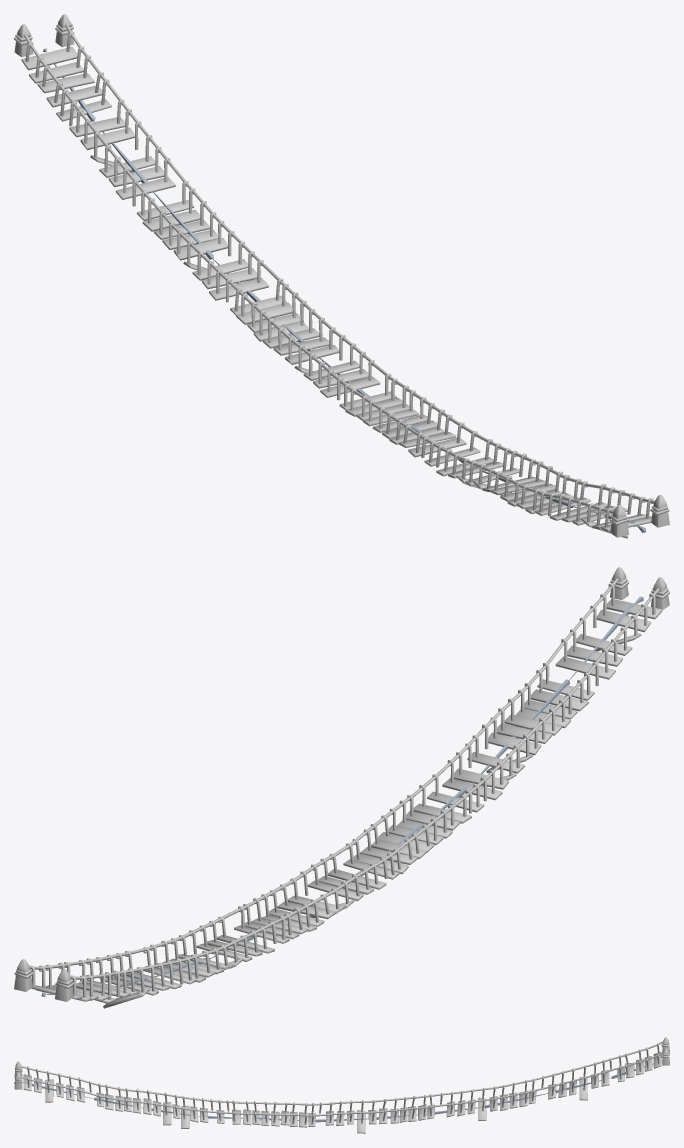
File: bridge.obj
The picture shows the model from 3 angles, top to bottom: view 1: azimuth 30°, elevation 25°; view 2: azimuth 150°, elevation 25°; view 3: azimuth 270°, elevation 25°; orthographic projection. The views are drawn at different scales.
Visible parts, largest first — view 1: bridge, Object001; view 2: bridge, Object001; view 3: bridge, Object001.
Part boxes in pixels (x1=…): bridge: x1=21, y1=24, x2=669, y2=538; Object001: x1=14, y1=14, x2=74, y2=57; bridge: x1=29, y1=567, x2=669, y2=1008; Object001: x1=14, y1=959, x2=74, y2=1001; bridge: x1=14, y1=1042, x2=662, y2=1133; Object001: x1=661, y1=1037, x2=669, y2=1065.
Bounding box in the file's own units: 62.73 × 170 × 1159.
